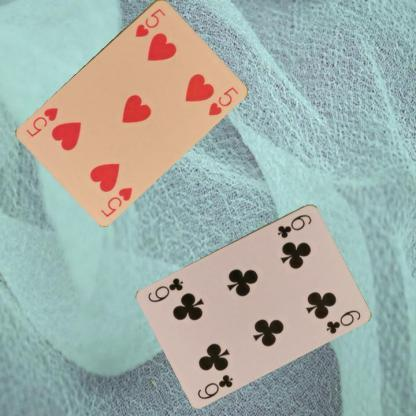5h: (98, 184, 134, 218), (132, 5, 167, 38)
6c: (194, 372, 235, 401), (275, 211, 313, 240)
